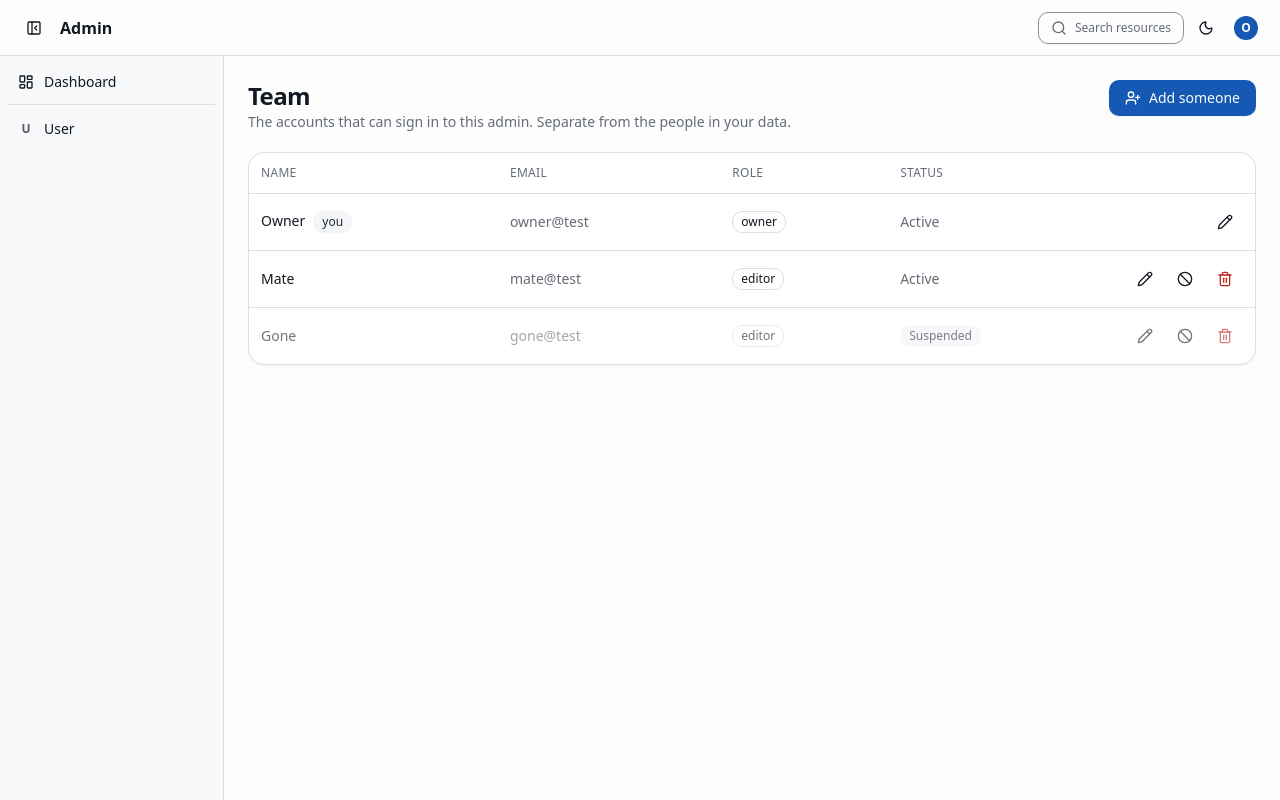
it: changing somebody › does not offer a role selector on your own row
Click the button named "Edit owner@test": (1225, 222) 1207,204 -> 1243,240
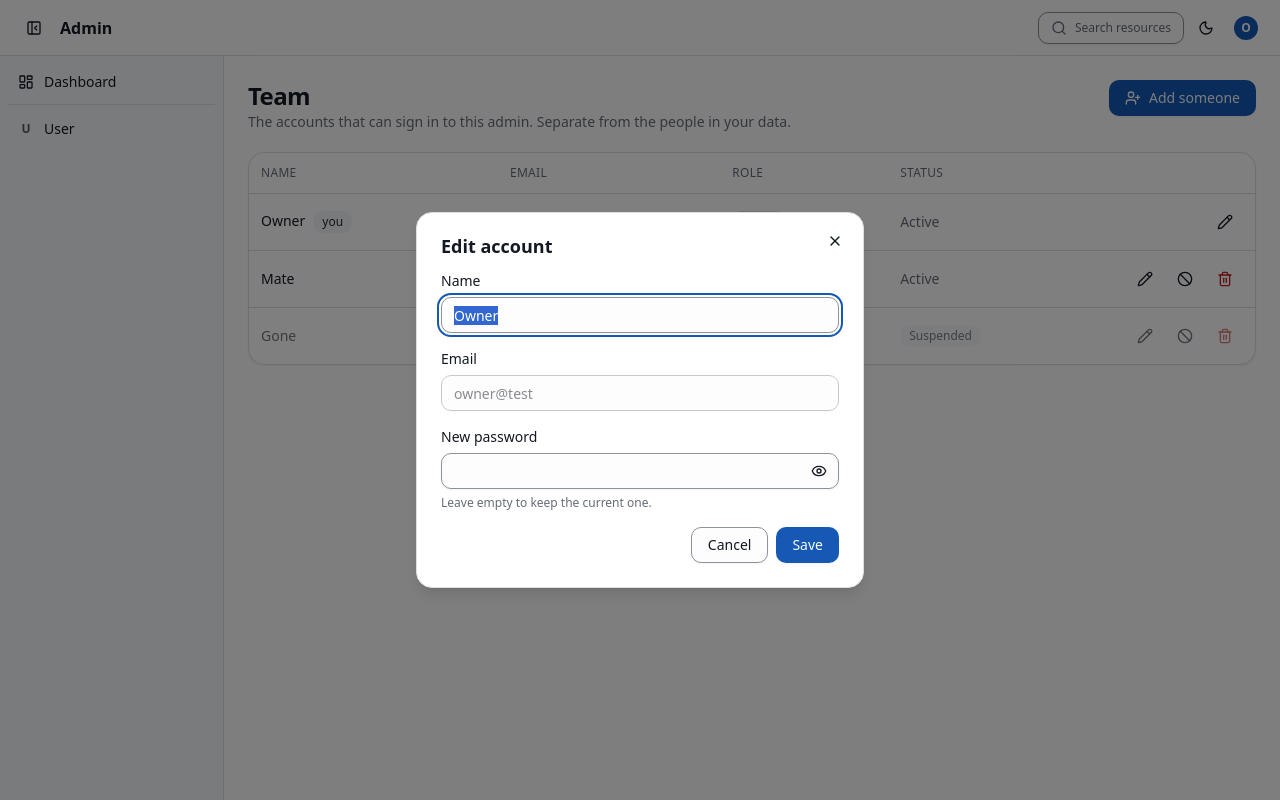
Now the heading "Edit account" is shown, box 441,234 -> 552,258
// Present for somebody else, so this is about the row.
Click the button "Cancel": (730, 545) 691,527 -> 768,563
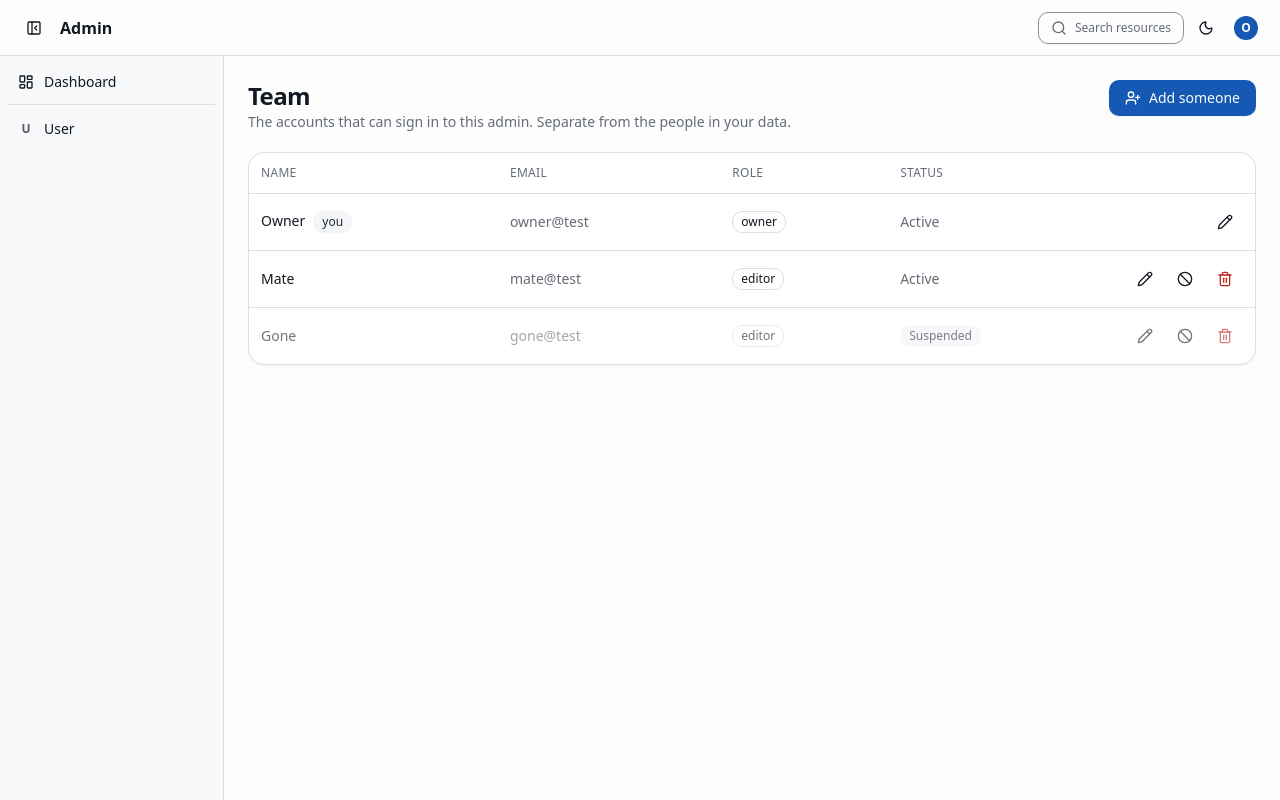
Click the button named "Edit mate@test": (1145, 278) 1127,260 -> 1163,296
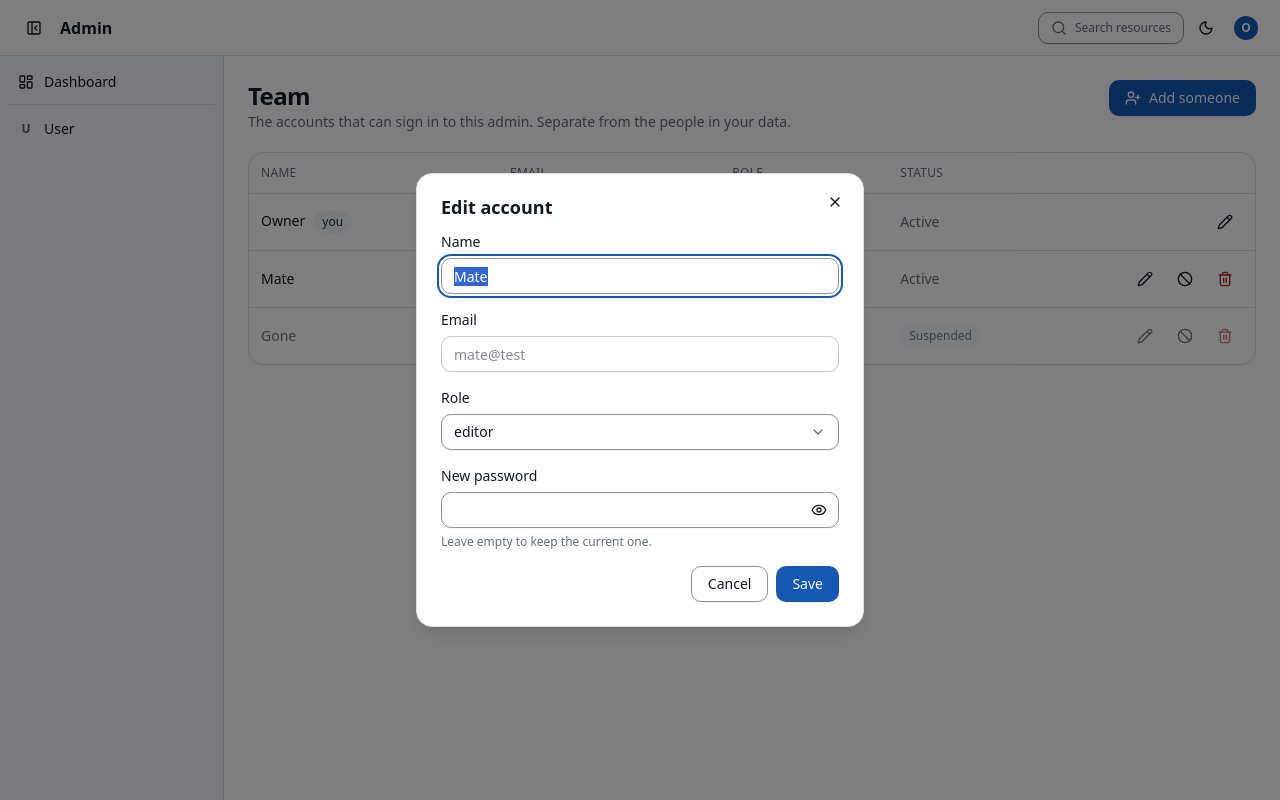
Now the dropdown named "Role" is shown, box 441,414 -> 839,450
